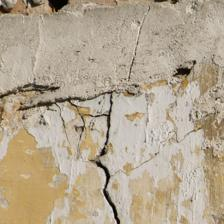Crack: (22, 0, 100, 93), (93, 16, 167, 46), (91, 36, 132, 79), (18, 68, 46, 100)
